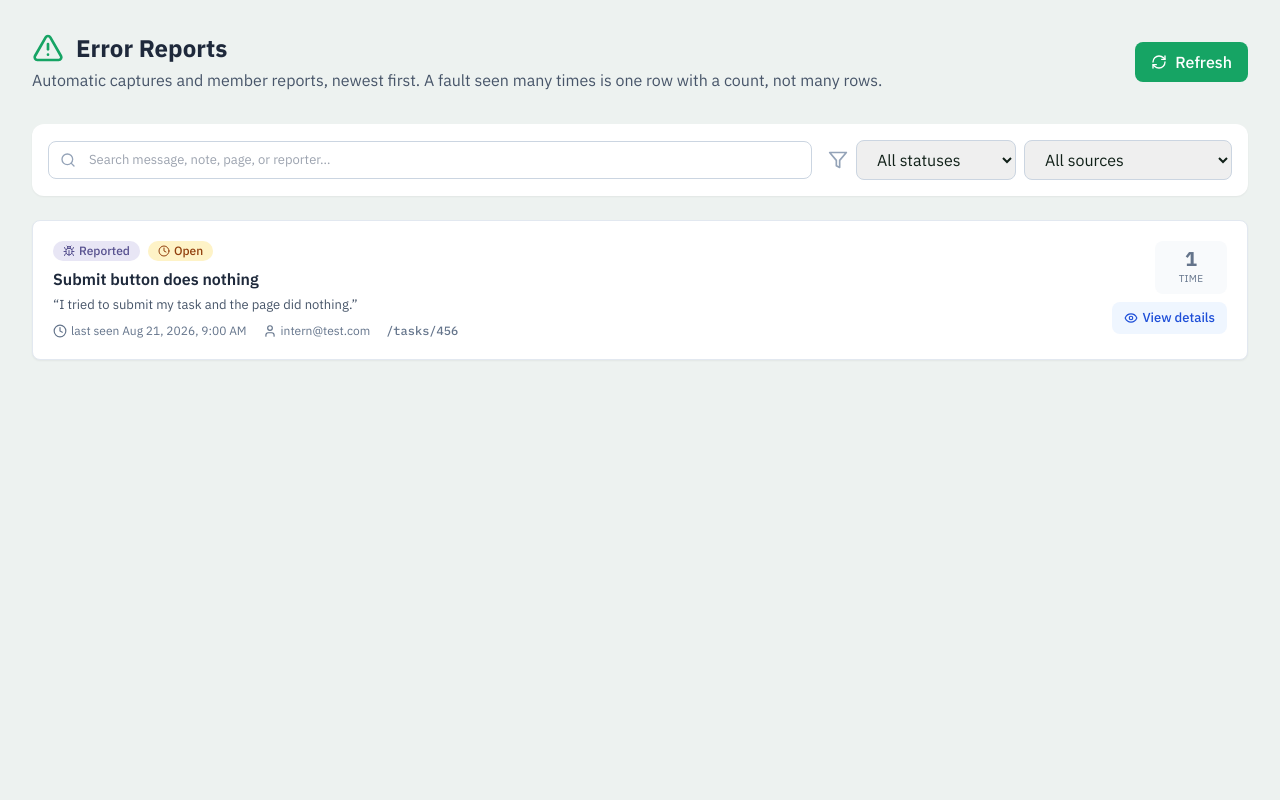
it: ErrorReportsPage › shows the reporter's note in the detail view, and no stack trace section when there is none
What coordinates should you click on to do the following:
click the button "View details"
I would click on:
 (1170, 318)
Its box is [1112, 302, 1227, 334].
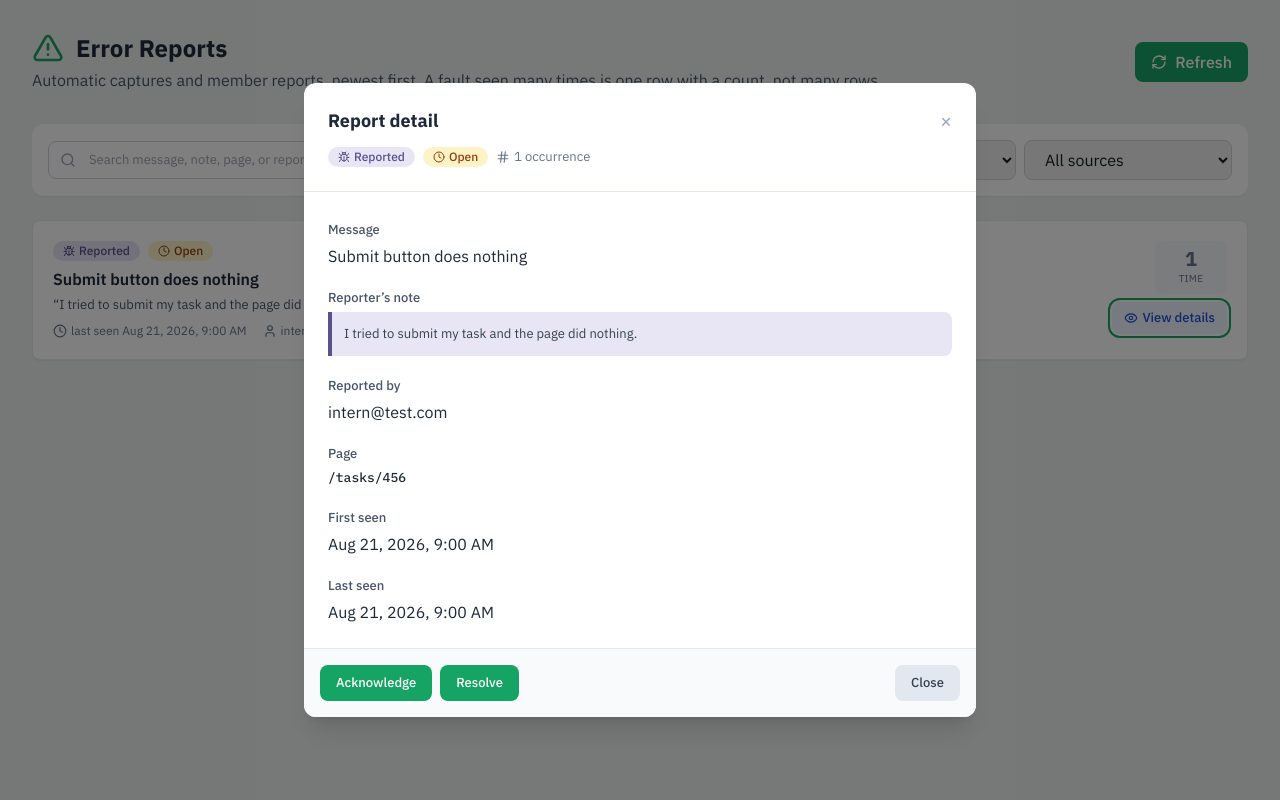
Expected: the text "I tried to submit my task and the page did nothing." is shown, [328, 312, 952, 356]
Expected: the text "intern@test.com" is shown, [328, 402, 447, 422]
